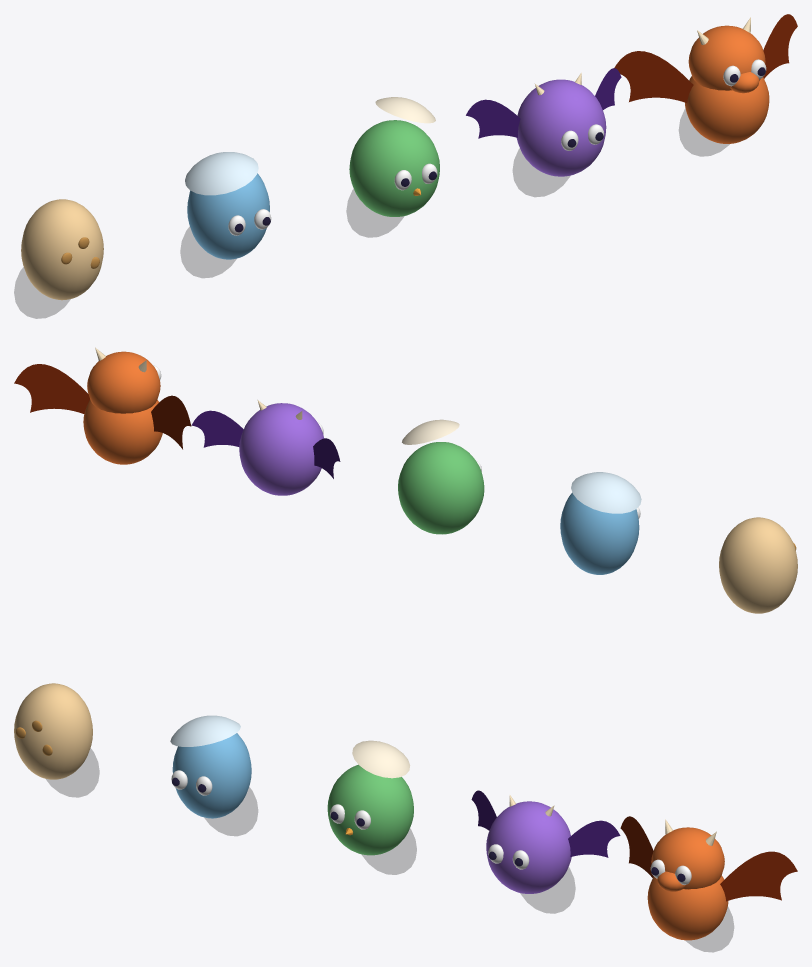
File: creatures.glb
3 renders of one model, top to bottom at view 1: azimuth 30°, elevation 25°; view 2: azimuth 150°, elevation 25°; view 3: azimuth 330°, elevation 25°, orthographic. The views are drawn at different scales.
Visible parts, largest first — view 1: Level5_Dragon, Level4_Wyrmling, Level3_Hatchling, Level2_Cracked, Level1_Egg; view 2: Level5_Dragon, Level4_Wyrmling, Level3_Hatchling, Level2_Cracked, Level1_Egg; view 3: Level5_Dragon, Level4_Wyrmling, Level3_Hatchling, Level2_Cracked, Level1_Egg.
Boxes of the visible parts, <box> form: Level5_Dragon: <box>614,14,797,156</box>; Level4_Wyrmling: <box>466,68,621,196</box>; Level3_Hatchling: <box>346,97,439,237</box>; Level2_Cracked: <box>180,152,271,277</box>; Level1_Egg: <box>14,199,103,318</box>; Level5_Dragon: <box>14,347,191,464</box>; Level4_Wyrmling: <box>191,400,340,495</box>; Level3_Hatchling: <box>398,419,484,534</box>; Level2_Cracked: <box>560,472,641,574</box>; Level1_Egg: <box>719,517,797,613</box>; Level5_Dragon: <box>620,816,797,952</box>; Level4_Wyrmling: <box>471,790,620,913</box>; Level3_Hatchling: <box>327,740,416,874</box>; Level2_Cracked: <box>170,715,257,835</box>; Level1_Egg: <box>14,683,99,797</box>.
Size of the model in its own units: 669 by 119 by 71.77.
